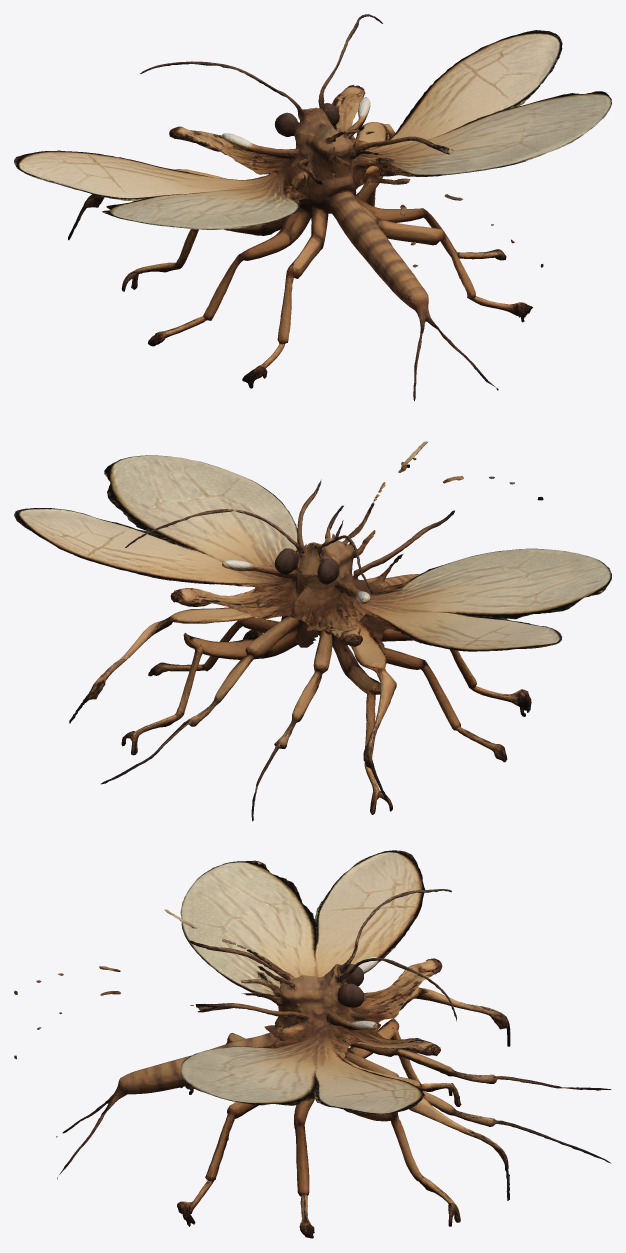
The picture shows the model from 3 angles, top to bottom: view 1: azimuth 30°, elevation 25°; view 2: azimuth 150°, elevation 25°; view 3: azimuth 270°, elevation 25°; orthographic projection.
Parts seen in each view (by area): view 1: bounded-antenna-study; view 2: bounded-antenna-study; view 3: bounded-antenna-study.
Part boxes in pixels (<box>): bounded-antenna-study: <box>14,14,611,400</box>; bounded-antenna-study: <box>14,441,611,821</box>; bounded-antenna-study: <box>14,850,611,1238</box>.
Size of the model in its own units: 0.9673 by 0.4148 by 0.9272.
1 material, 1 textured.
